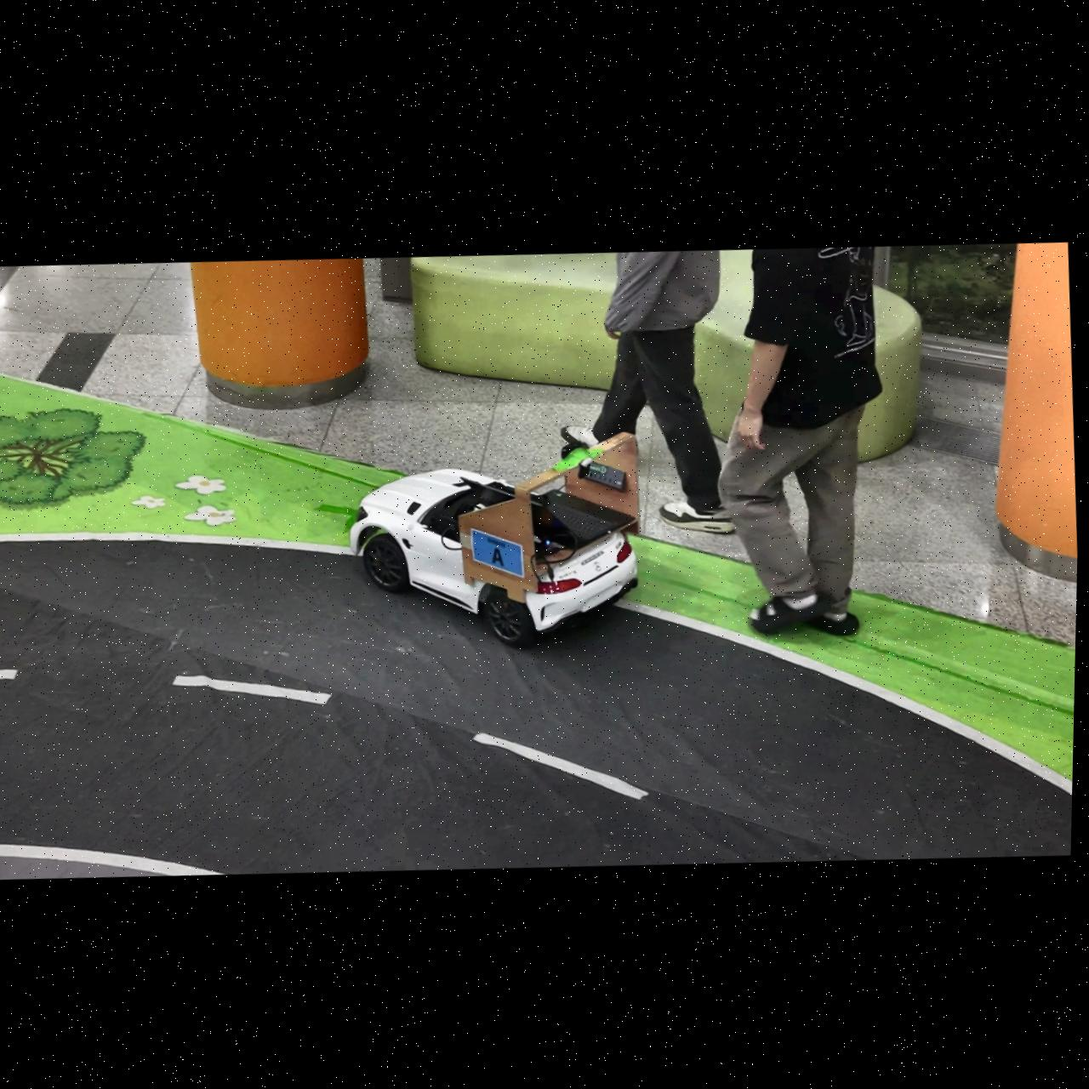broken_line: (472, 732, 649, 800), (171, 675, 332, 704), (0, 668, 18, 679)
